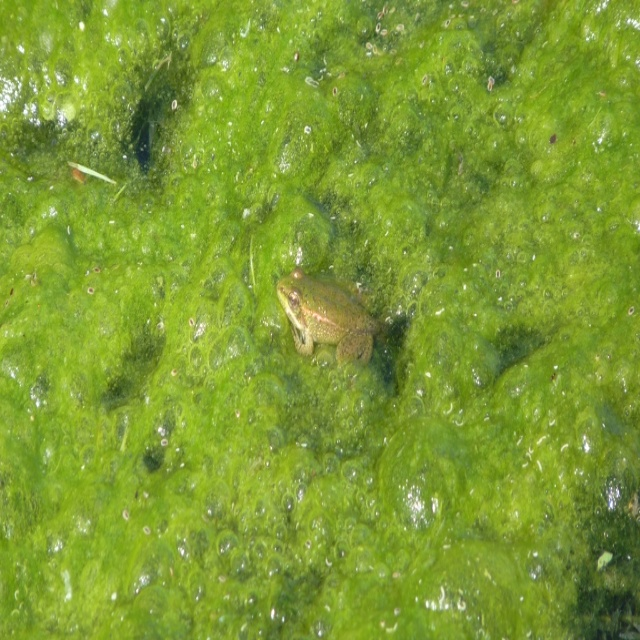Frog: (276, 266, 380, 391)
